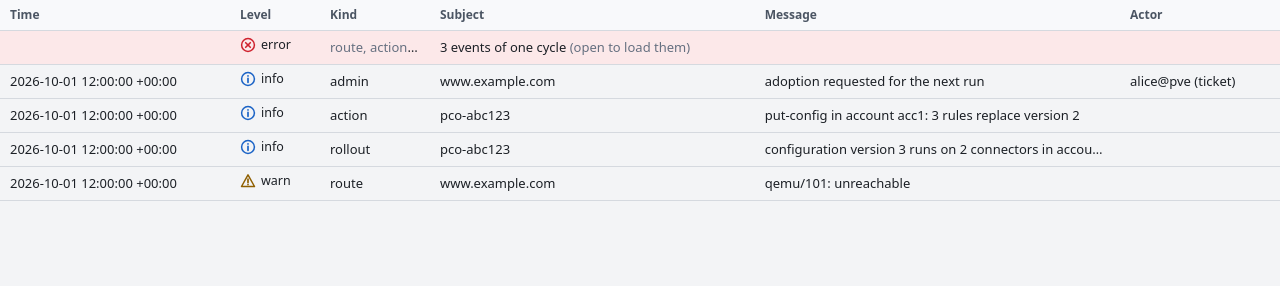
Test: a gap row loads its events when opened
Click the text "3 events of one cycle" at (640, 47), box 0,30 -> 1279,64
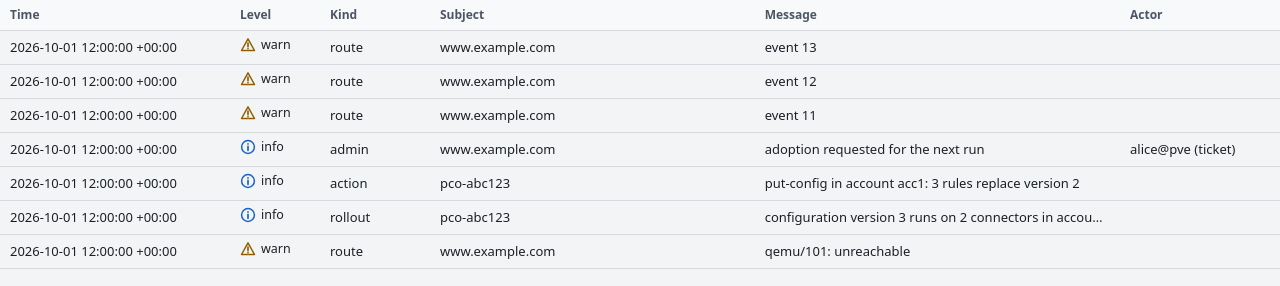
expect the text "event 12" is shown: met, box 765,72 -> 817,90
